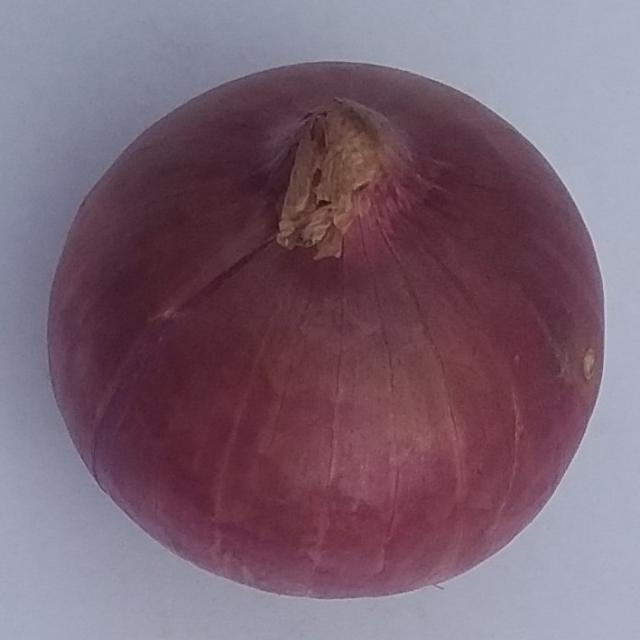onion: (45, 59, 609, 604)
